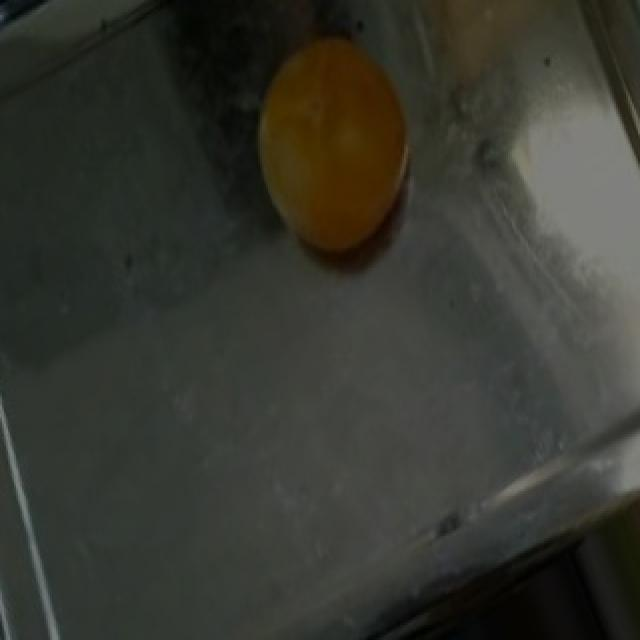Fruit: (226, 15, 440, 275)
